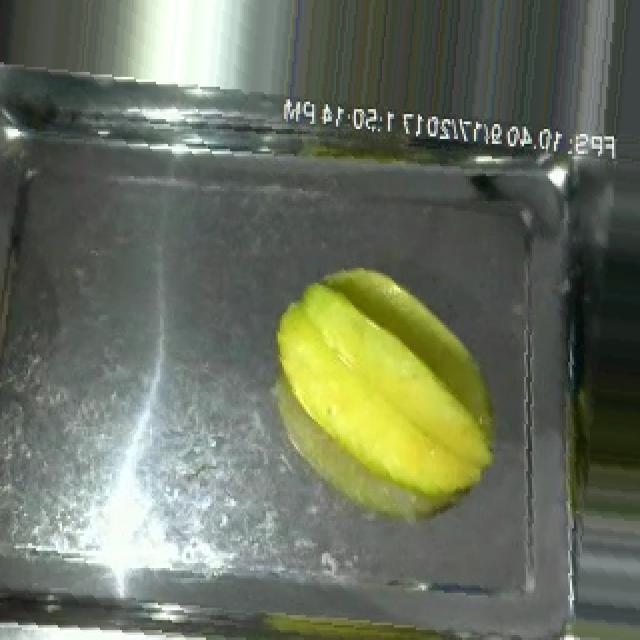fruit: (254, 238, 512, 519)
